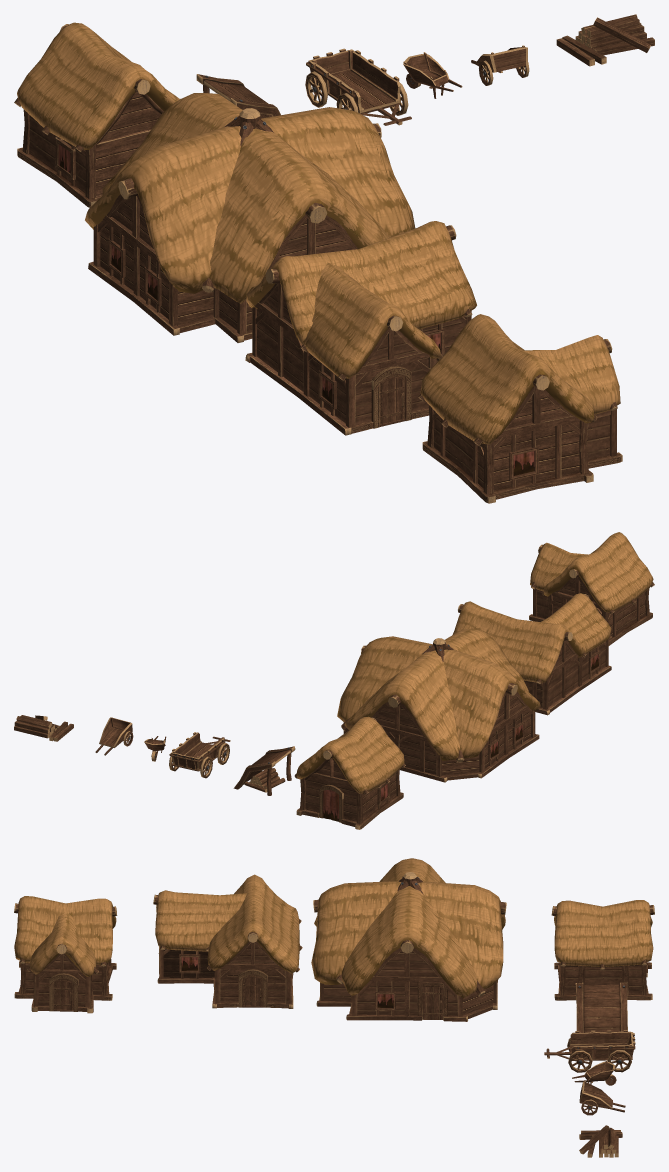
The model's file is village.fbx.
3 views of the same model, one above another, from view 1: azimuth 30°, elevation 25°; view 2: azimuth 150°, elevation 25°; view 3: azimuth 270°, elevation 25° (orthographic). The views are drawn at different scales.
Visible parts, largest first — view 1: house_1, house_2, house_3, house_4, Cart3, WoodPile, WoodCover, Cart, Cart2; view 2: house_1, house_2, house_4, house_3, Cart3, WoodCover, WoodPile, Cart2; view 3: house_1, house_2, house_3, house_4, WoodCover, Cart3, WoodPile, Cart2, Cart.
Boxes of the visible parts, x1,y1,x2,y2 form: house_1: (85, 93, 415, 342); house_2: (245, 221, 476, 435); house_3: (418, 314, 622, 503); house_4: (14, 22, 179, 207); Cart3: (305, 48, 411, 125); WoodPile: (556, 14, 654, 66); WoodCover: (196, 74, 280, 118); Cart: (403, 52, 462, 98); Cart2: (471, 45, 529, 85); house_1: (337, 628, 540, 782); house_2: (452, 593, 611, 715); house_4: (294, 716, 405, 829); house_3: (529, 532, 654, 645); Cart3: (169, 732, 230, 778); WoodCover: (233, 746, 295, 795); WoodPile: (14, 715, 73, 741); Cart2: (95, 717, 133, 755); house_1: (311, 858, 506, 1021); house_2: (153, 874, 302, 1008); house_3: (14, 896, 117, 1013); house_4: (551, 900, 654, 1000); WoodCover: (575, 982, 627, 1032); Cart3: (544, 1030, 635, 1072); WoodPile: (579, 1125, 622, 1157); Cart2: (579, 1081, 625, 1115); Cart: (572, 1060, 616, 1085).
Bounding box in the file's own units: 1882 × 446 × 2363.
